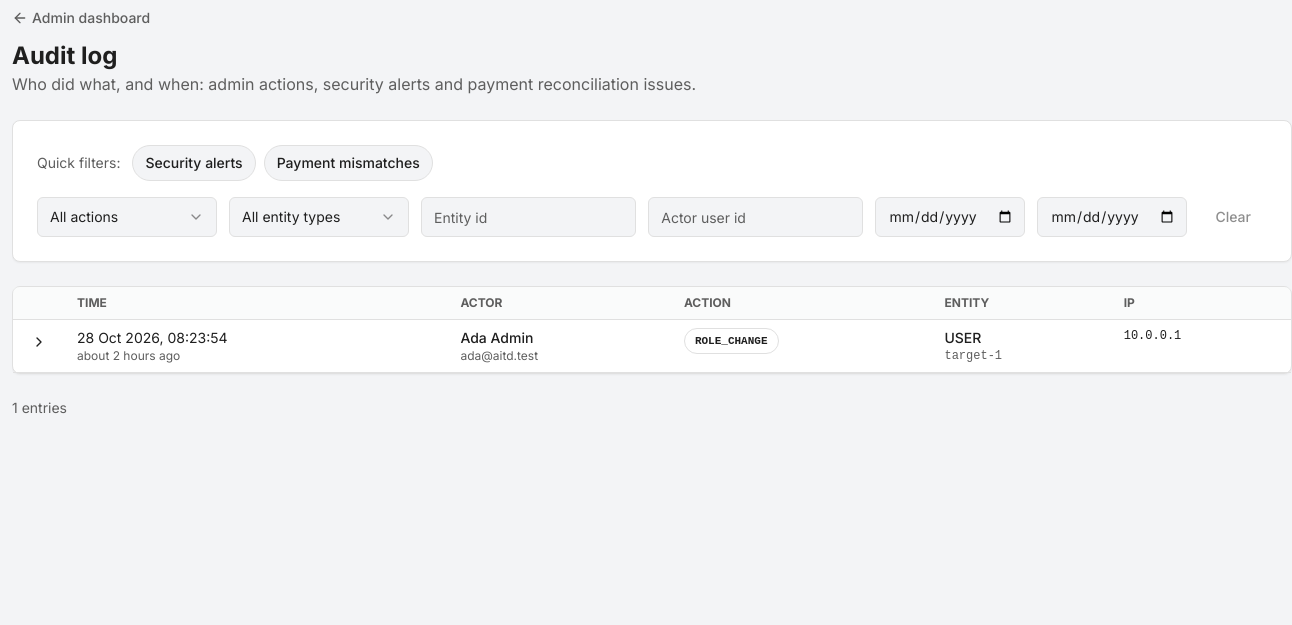
Test case: Admin audit log page › expands a row to show old/new values as plain text JSON
Click the button named "show details".
click(39, 342)  # box [25,328,53,356]
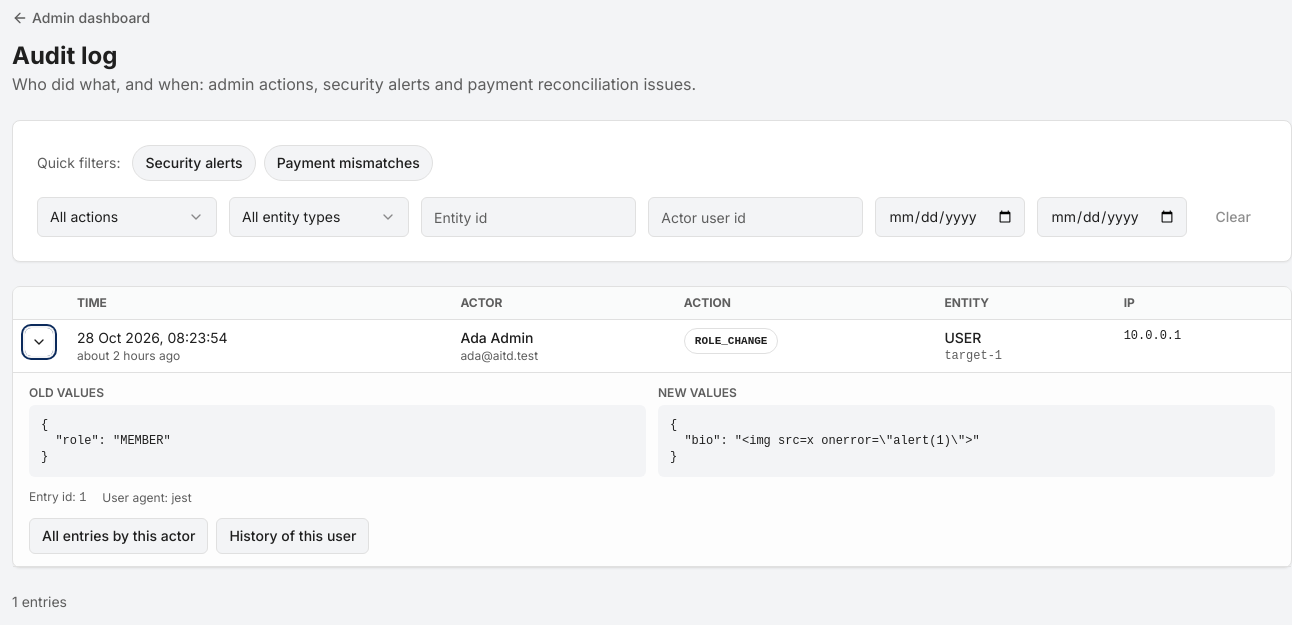
Result: the text "{ \"role\": \"MEMBER\" }" is shown at [29,405,646,477]
Result: the text "{ \"bio\": \"<img src=x onerror=\\\"alert(1)\\\">\" }" is shown at [658,405,1275,477]
